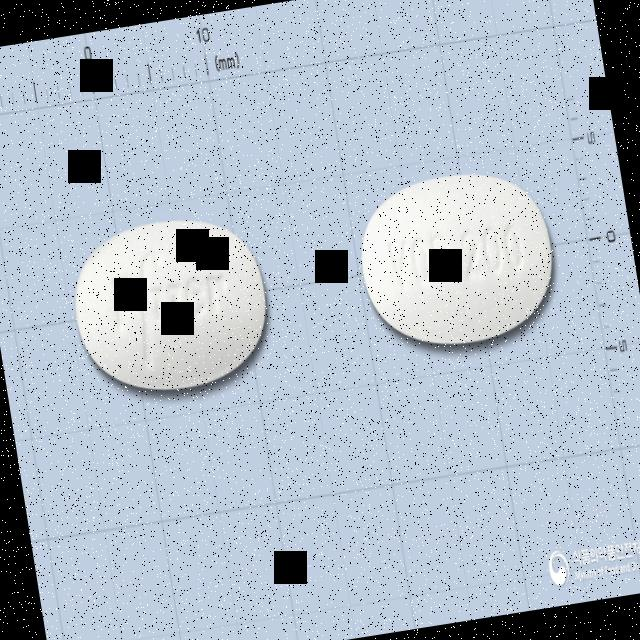Vfend Tab: (350, 161, 565, 357), (64, 208, 278, 404)
